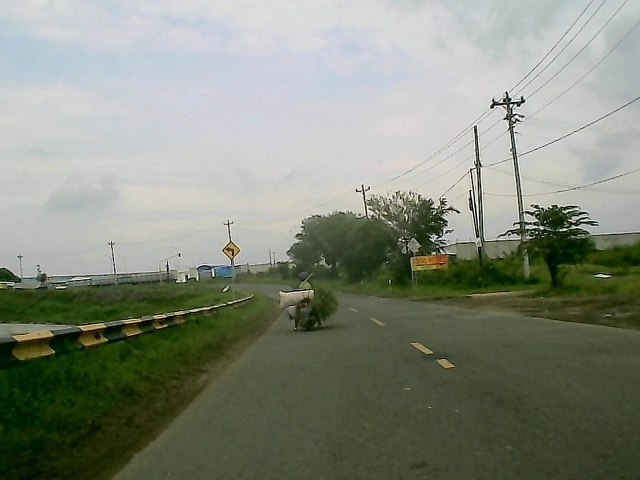Tikungan tajam ke kiri: (220, 240, 244, 263)
